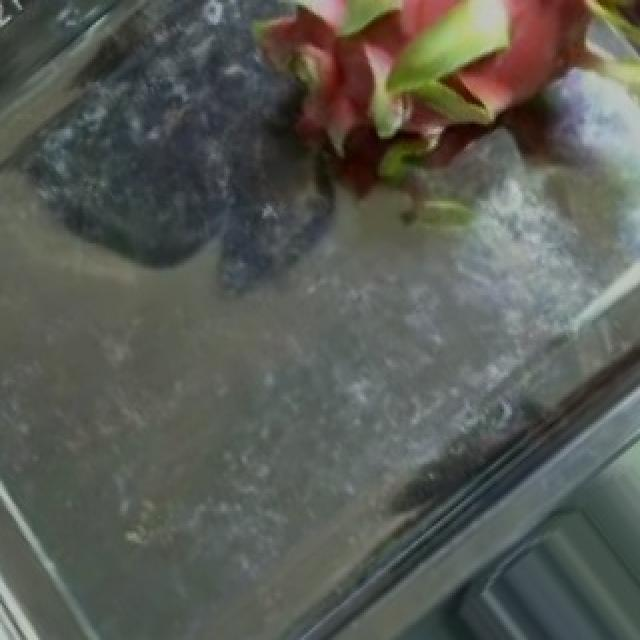fruit: (210, 0, 636, 300)
